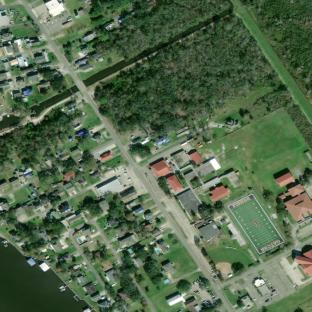Floresta: (95, 15, 277, 135), (241, 0, 312, 103), (110, 0, 229, 59), (0, 108, 78, 172), (108, 194, 140, 233), (143, 255, 162, 284), (42, 217, 66, 237)
